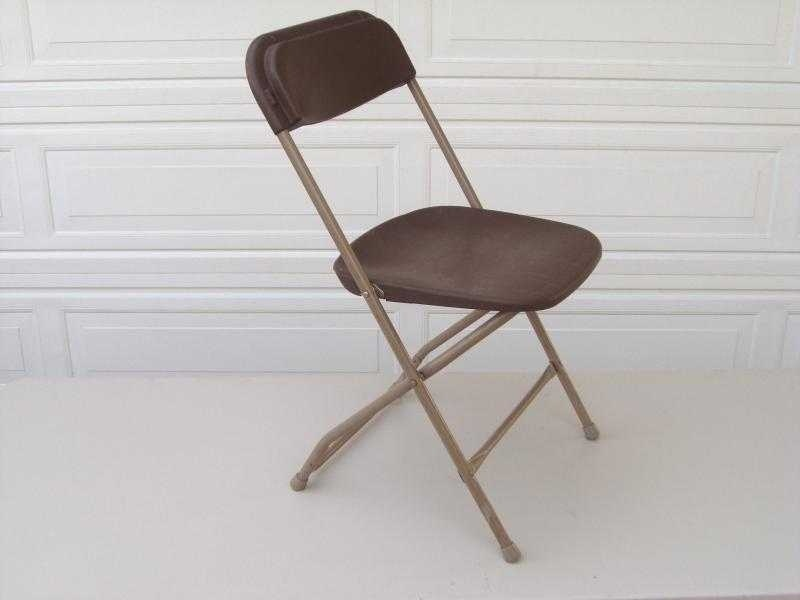obstacle: (246, 10, 601, 562)
